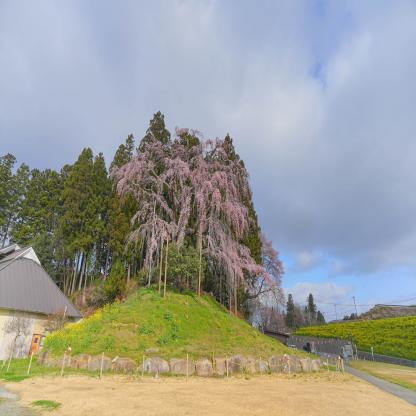ShidareZakura: (110, 126, 286, 316)
